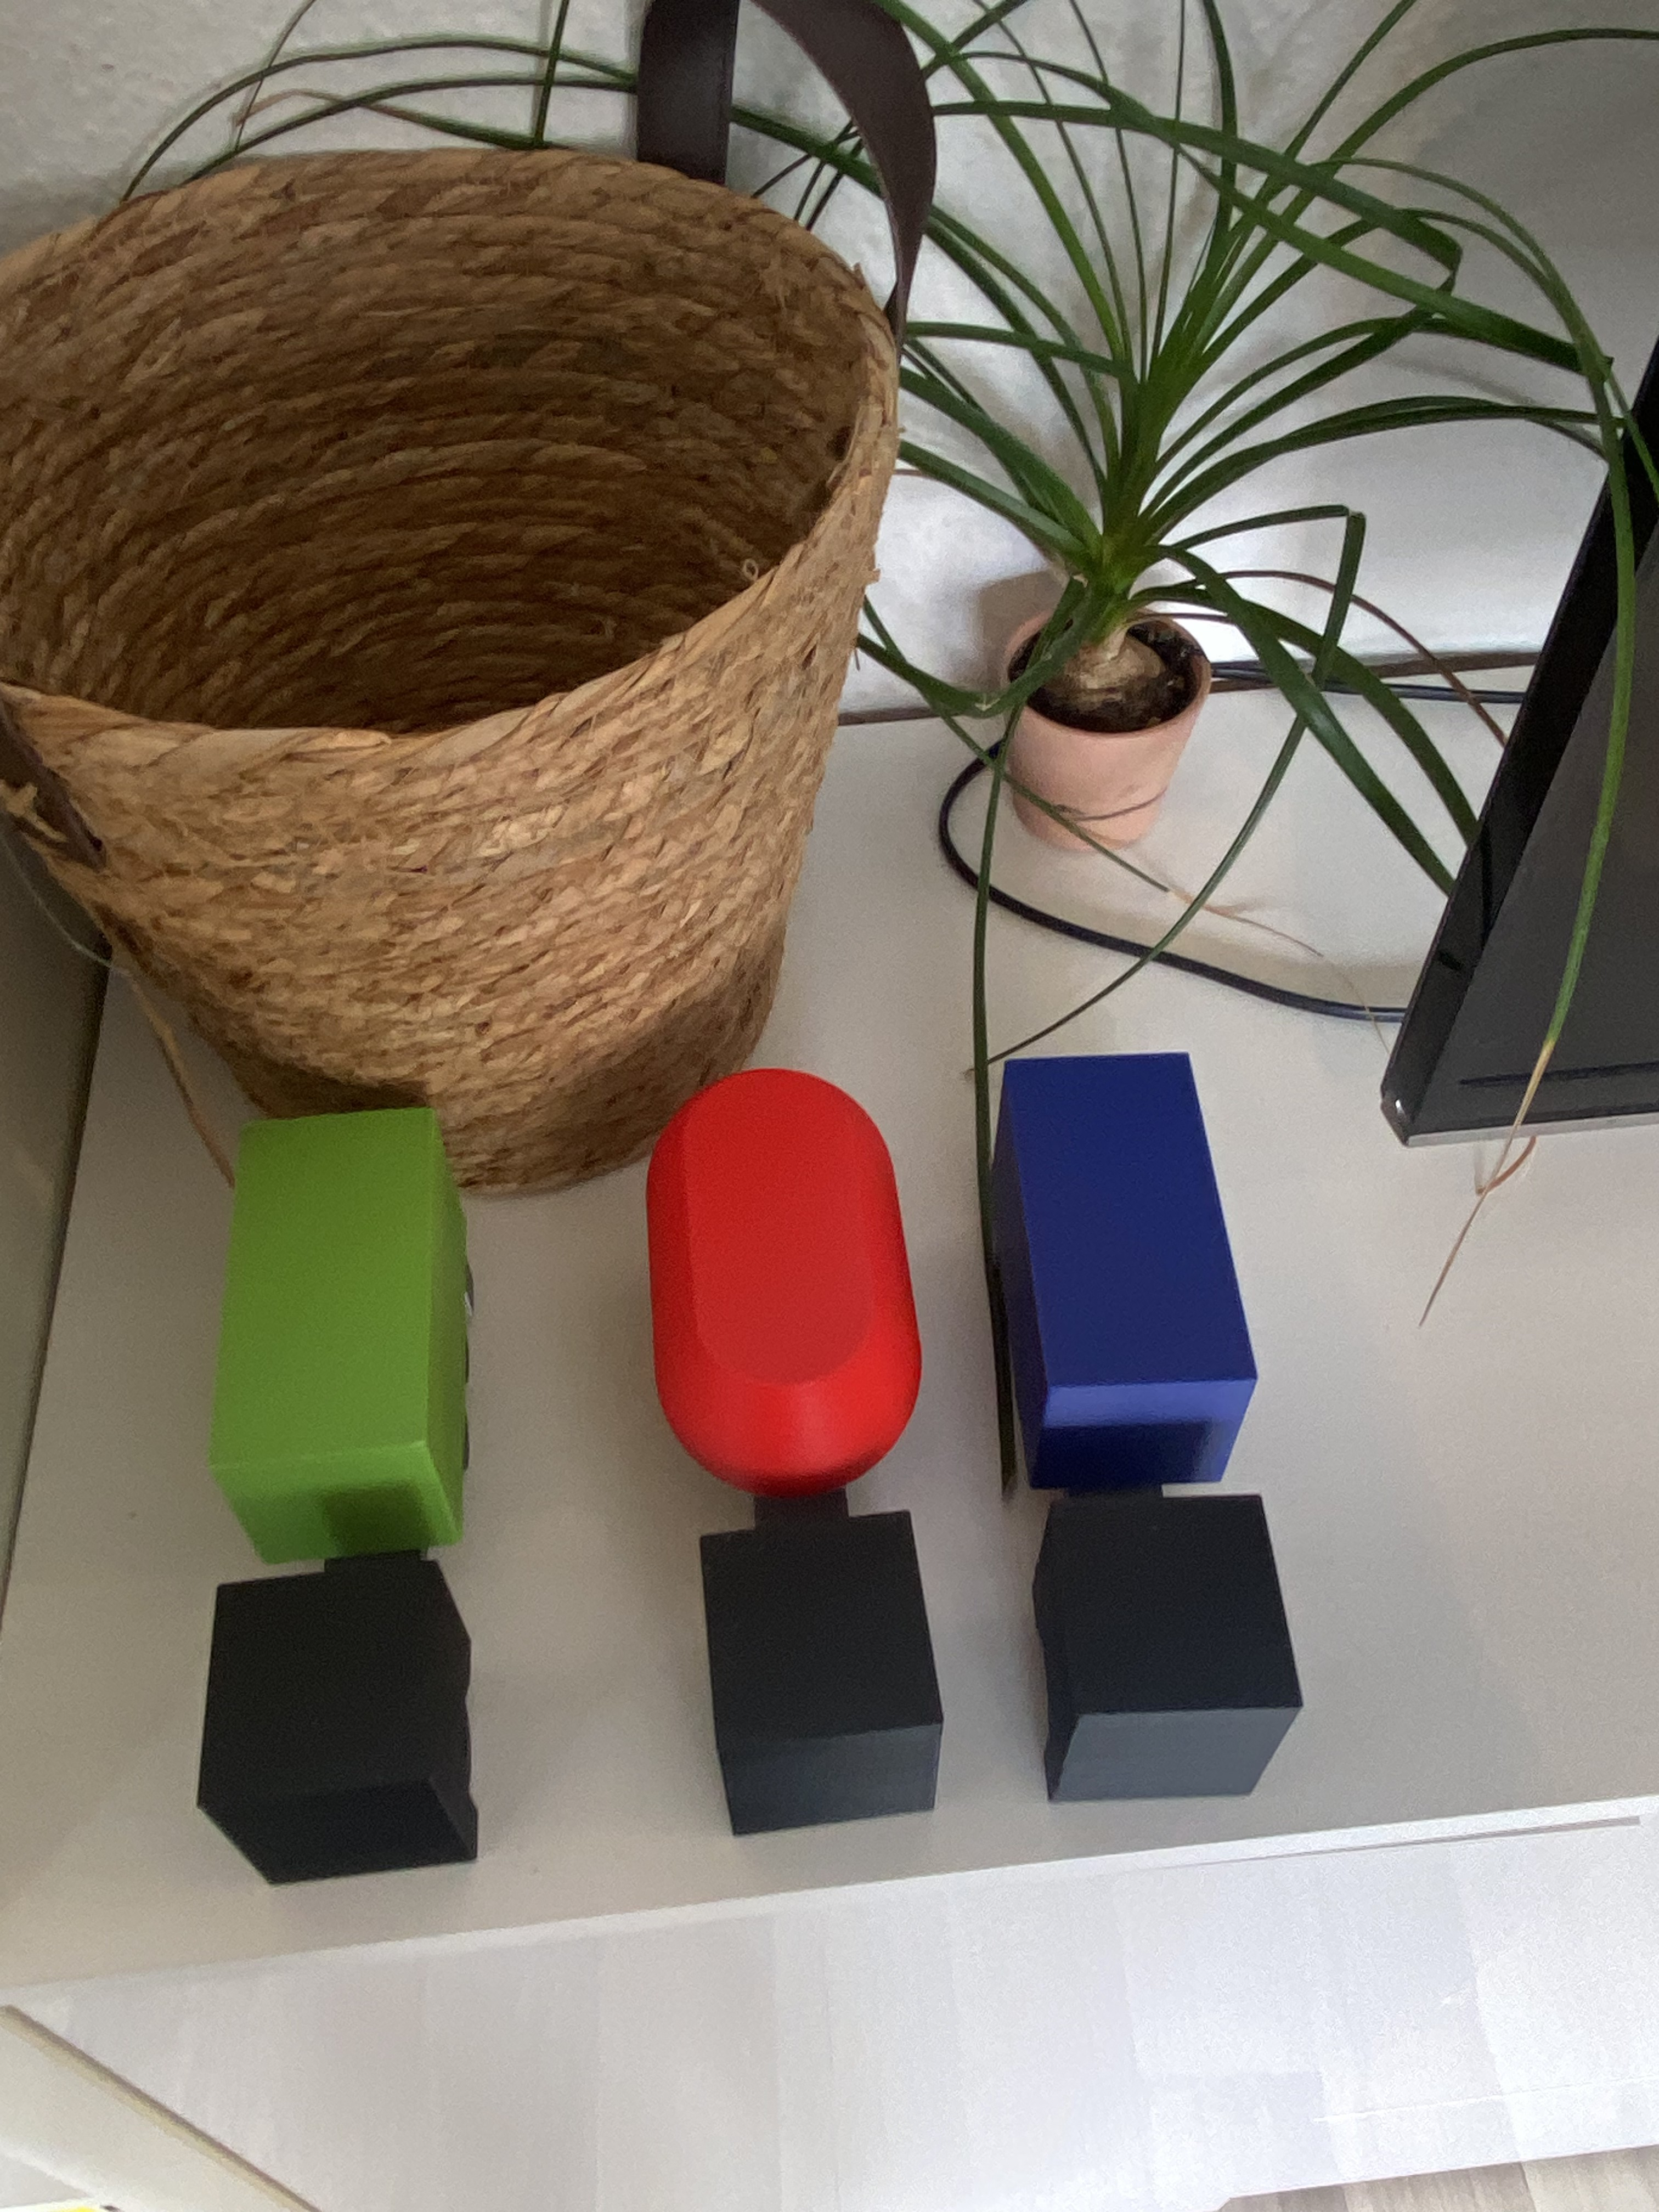blue_truck: (755, 1280, 1527, 1554)
green_truck: (192, 1104, 483, 1878)
red_truck: (394, 1317, 1185, 1585)
